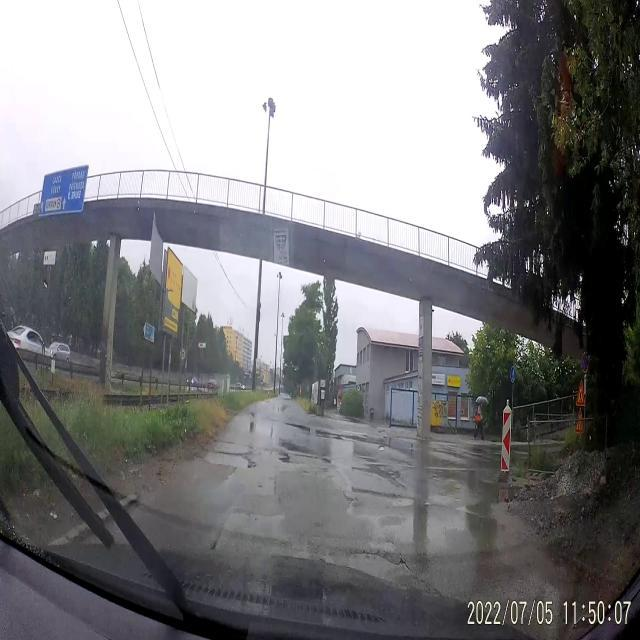Pothole: (274, 448, 328, 476), (204, 448, 254, 476), (346, 548, 414, 568), (344, 492, 359, 514), (208, 438, 234, 449)
